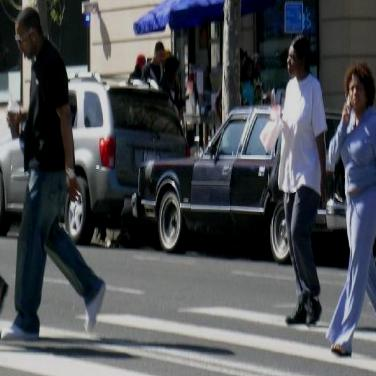ped: (3, 7, 106, 338), (327, 64, 376, 354), (279, 38, 328, 325)
